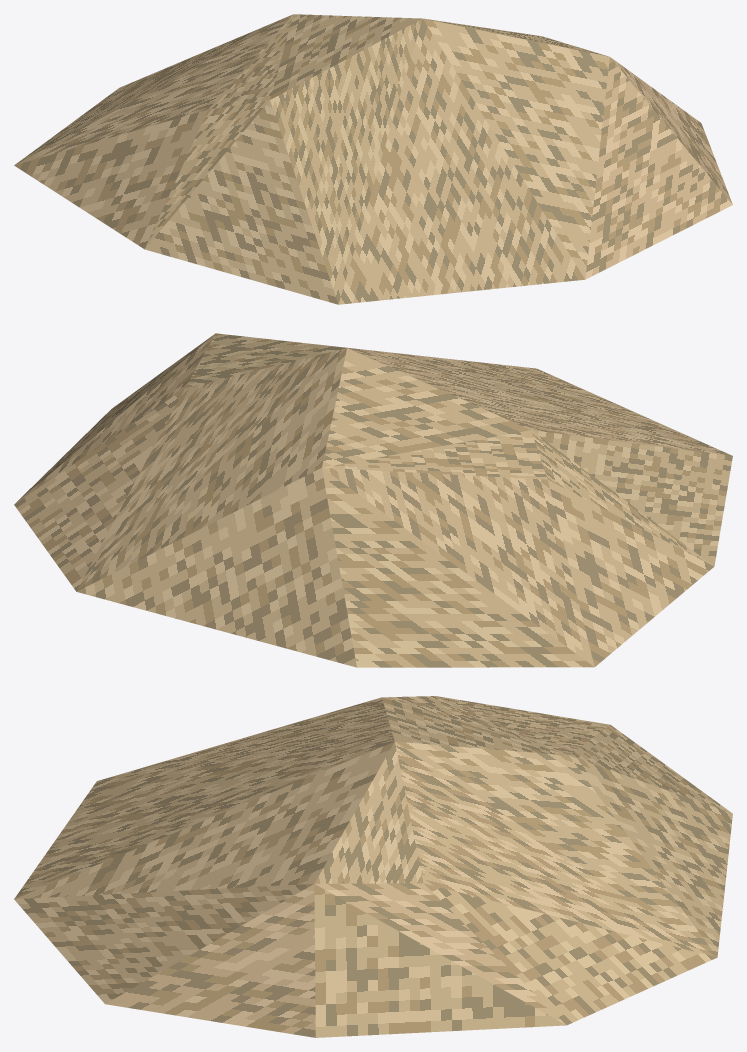
File: material_sand.glb
3 renders of one model, top to bottom at view 1: azimuth 30°, elevation 25°; view 2: azimuth 150°, elevation 25°; view 3: azimuth 270°, elevation 25°, orthographic. The views are drawn at different scales.
Visible parts, largest first — view 1: block_heap; view 2: block_heap; view 3: block_heap.
Part boxes in pixels (x1,y1,x2,y2): block_heap: [14, 14, 732, 304]; block_heap: [14, 333, 732, 667]; block_heap: [14, 696, 732, 1037].
Size of the model in its own units: 0.1178 by 0.028 by 0.1143.
Materials: 1 (1 with a texture image).
